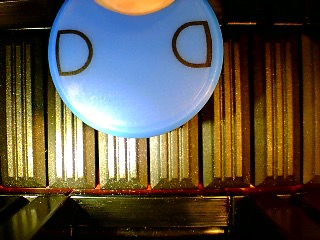MIPO2: (47, 1, 223, 138)
